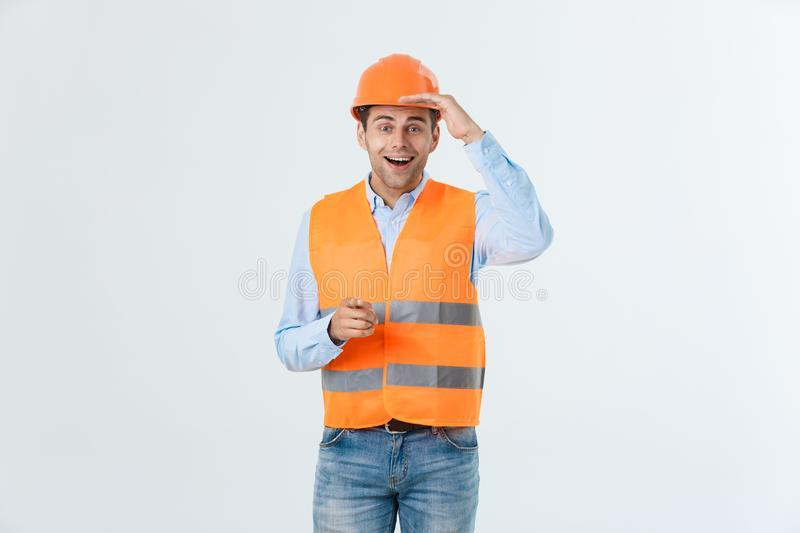helmet: (353, 52, 449, 119)
